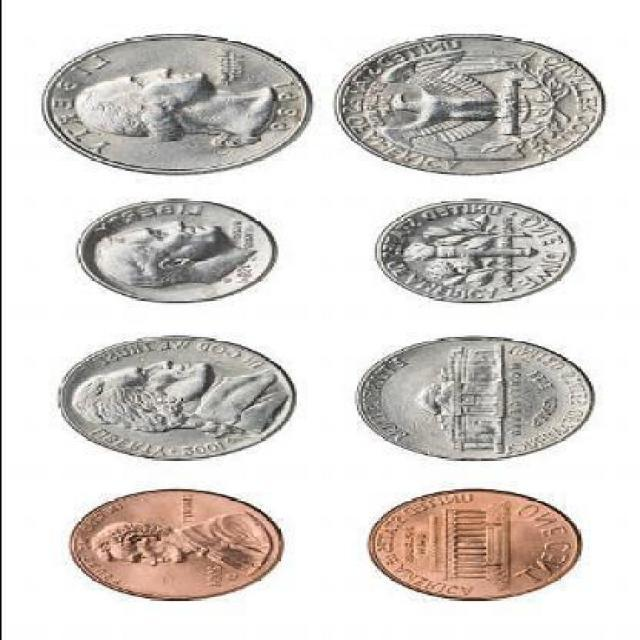Dime: (69, 197, 283, 305), (371, 197, 580, 305)
Nickel: (348, 330, 597, 464), (58, 334, 296, 463)
Penny: (364, 486, 592, 608), (61, 489, 288, 603)
Quarter: (35, 32, 320, 176), (334, 30, 602, 178)
